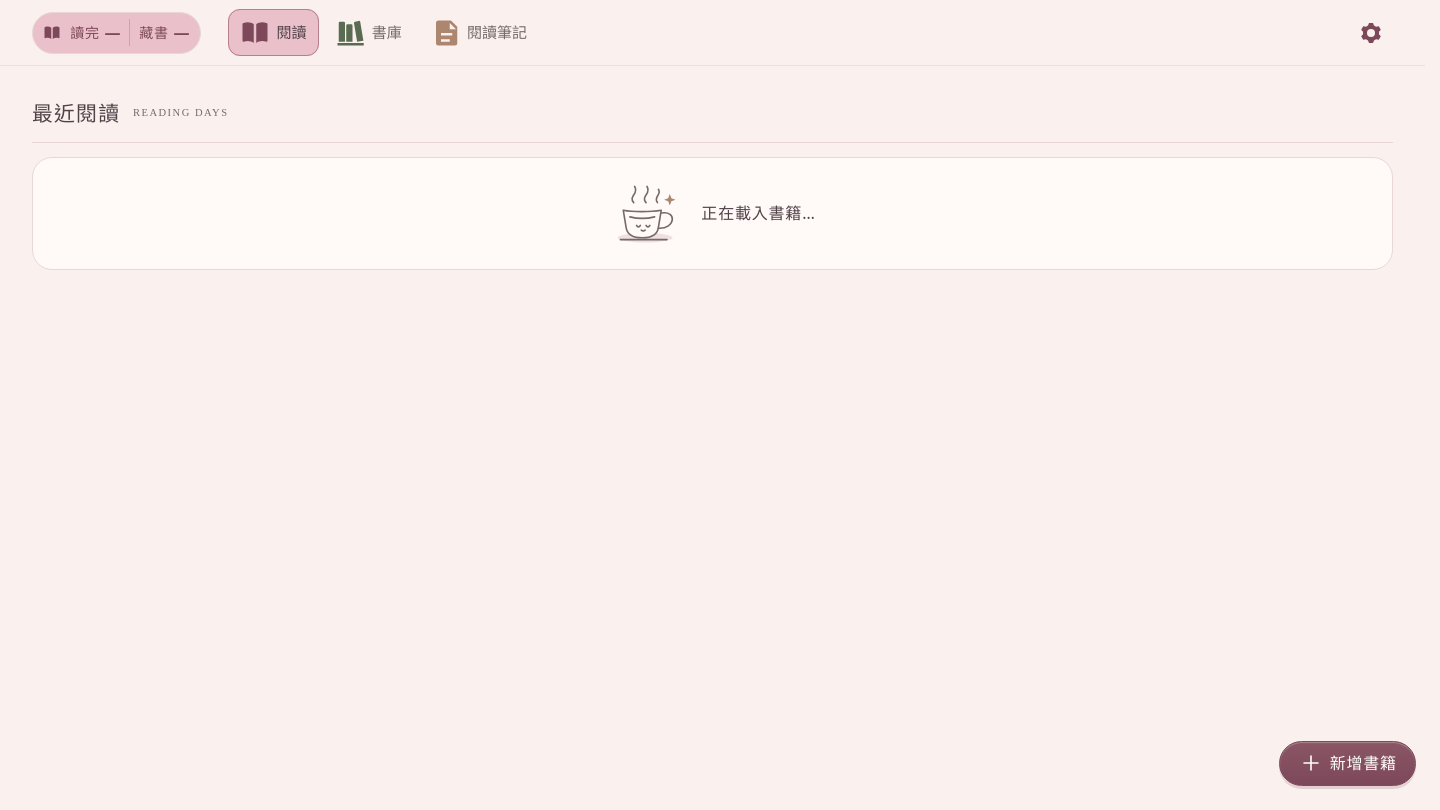
Scenario: single-book editing › blocks duplicate submits and editing while a save is pending
Step 1. Click the button "書庫" → (369, 33), box [323,9,414,56]
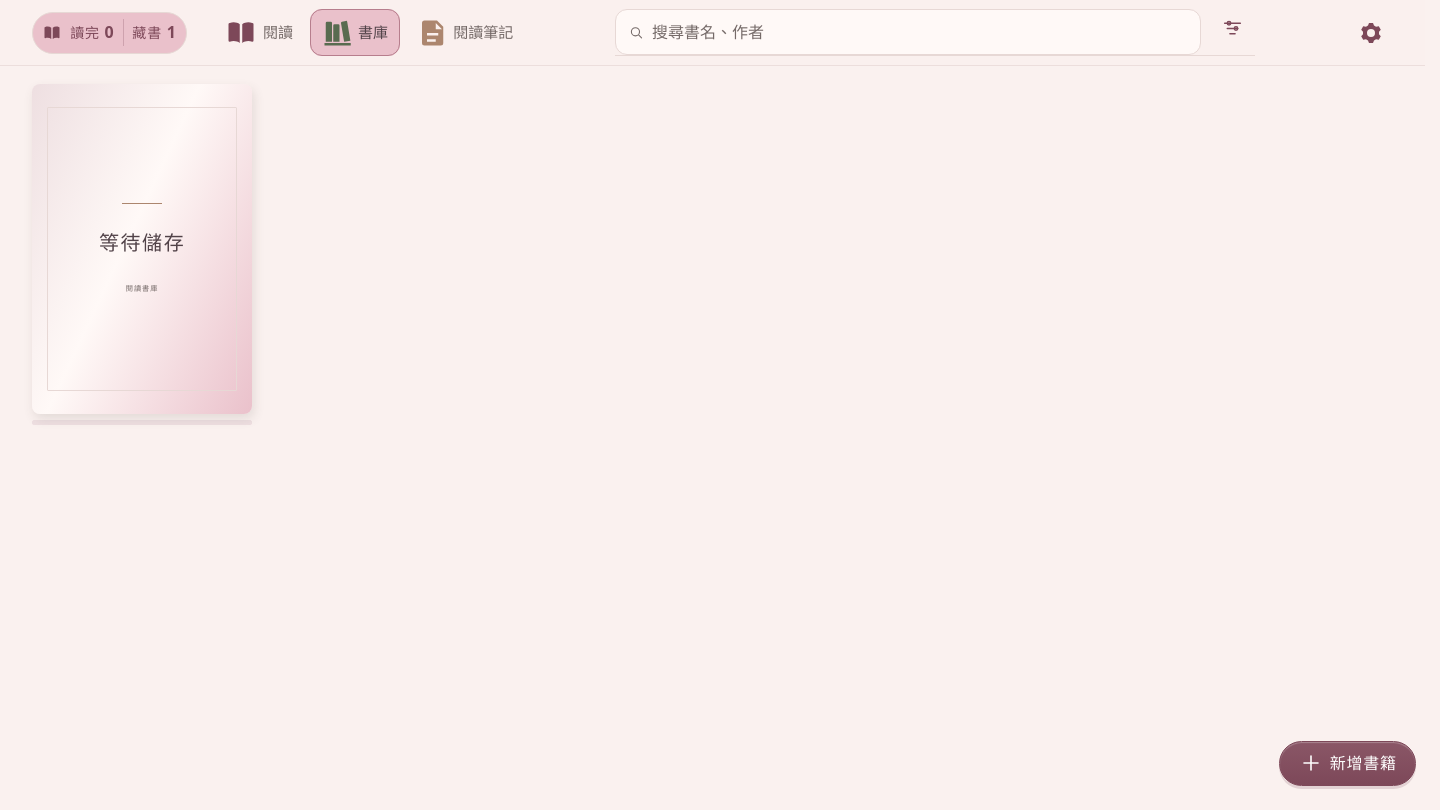
Step 2. Click the button with aria-label "開啟《" → (142, 249), box [32,84,252,414]
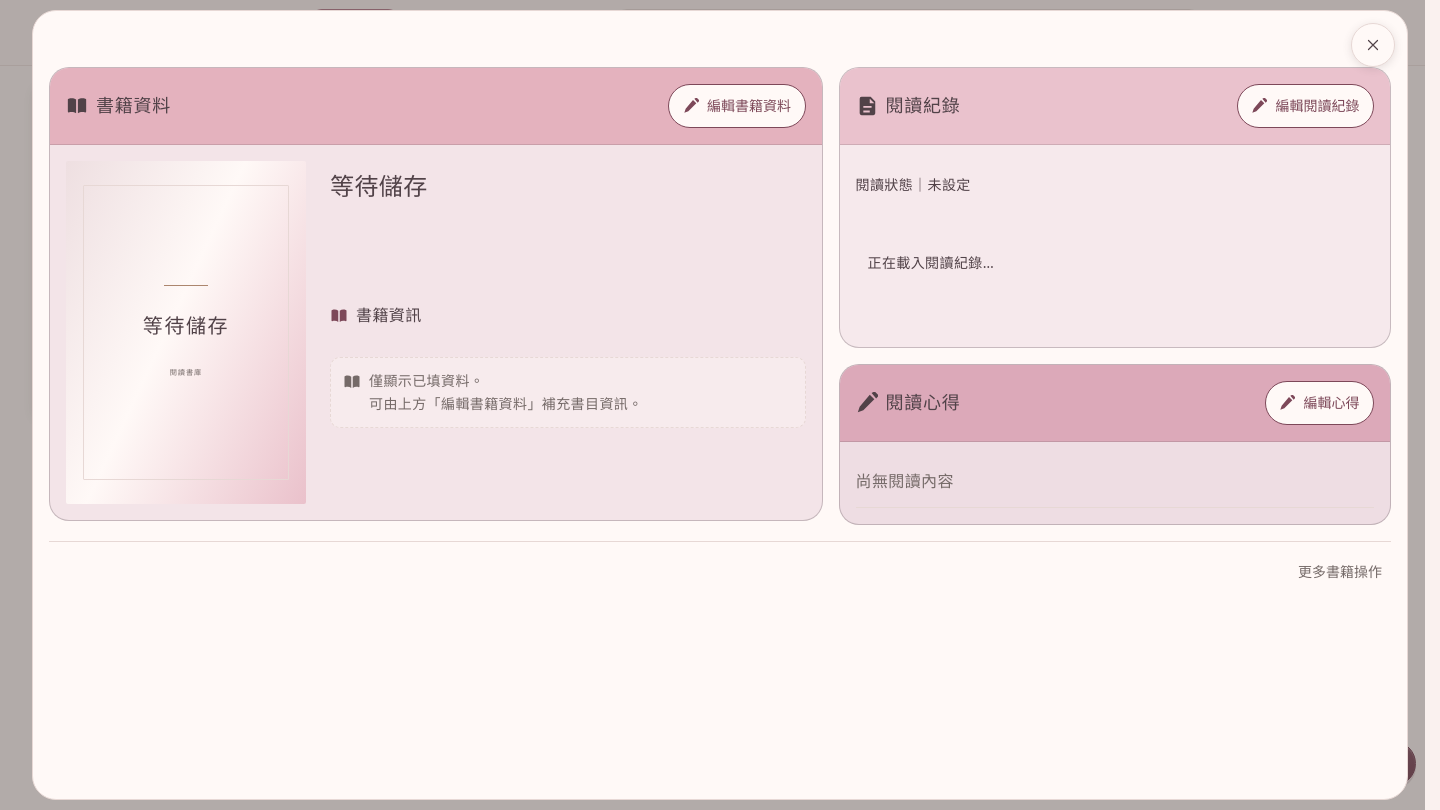
Step 3. Click the button "編輯書籍資料" → (737, 106), box [668,84,806,128]
(page scrolled)
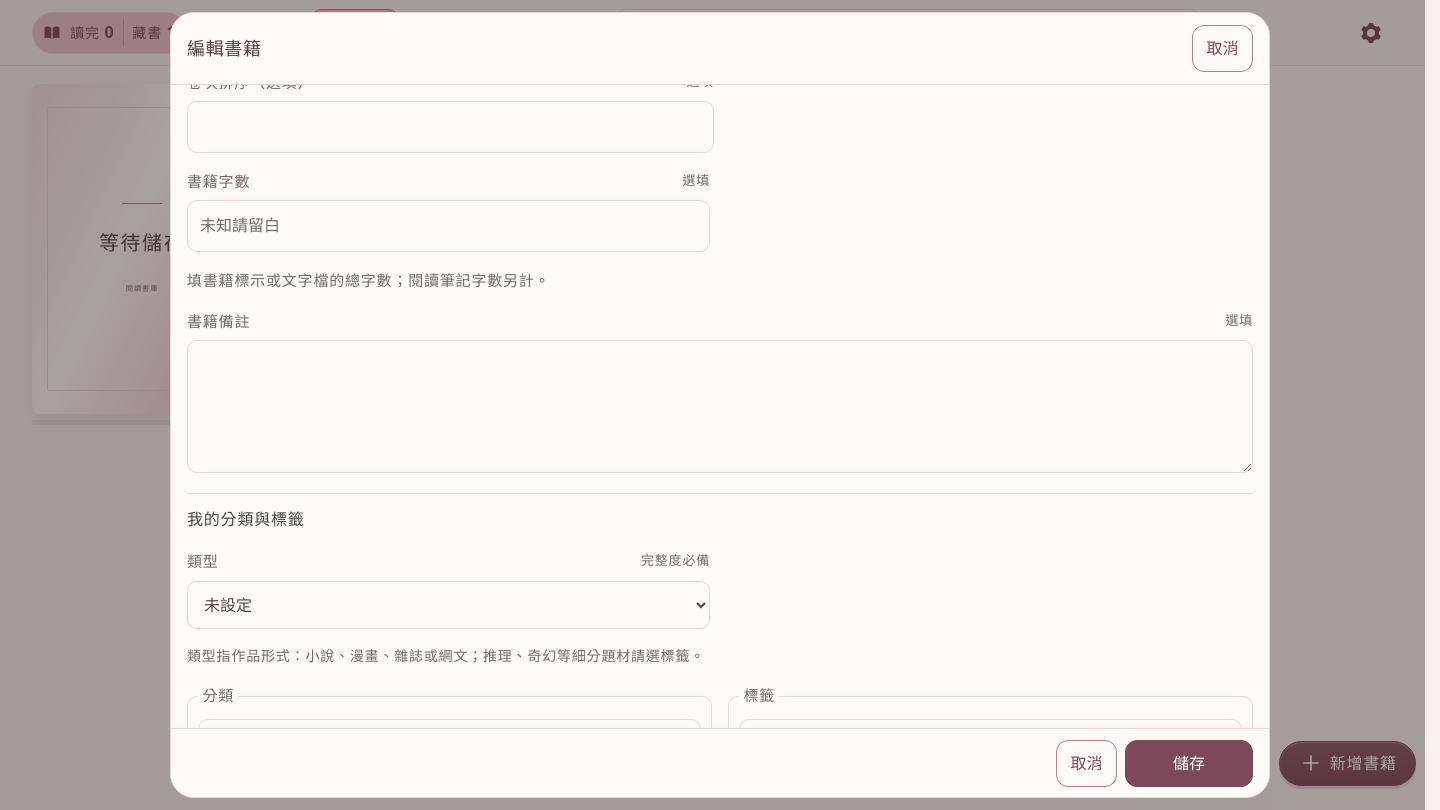
Step 4. Type "只儲存一次" into the text box labelled "書籍備註" → (720, 407), box [187,340,1253,473]
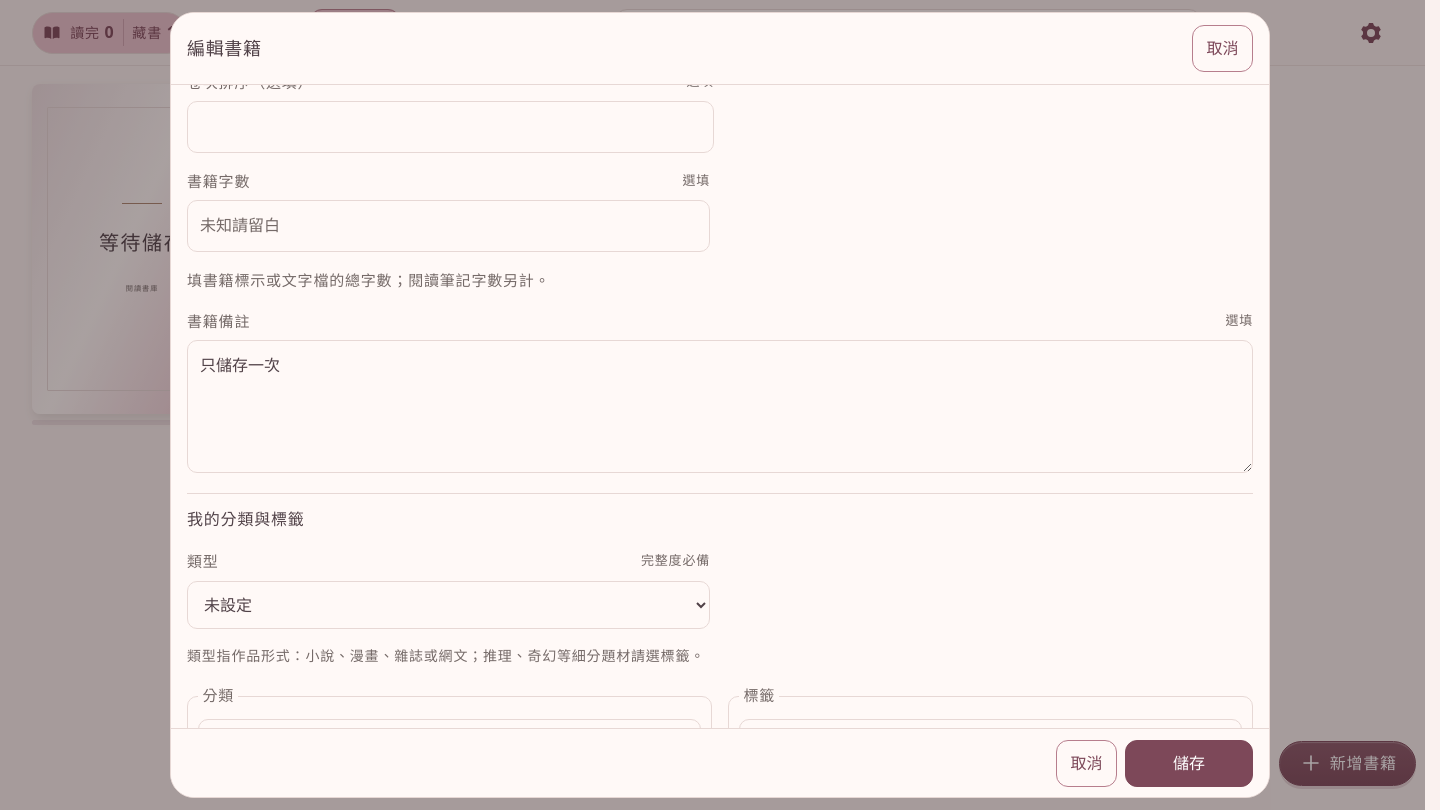
Step 5. Submit the form with class "book-form"
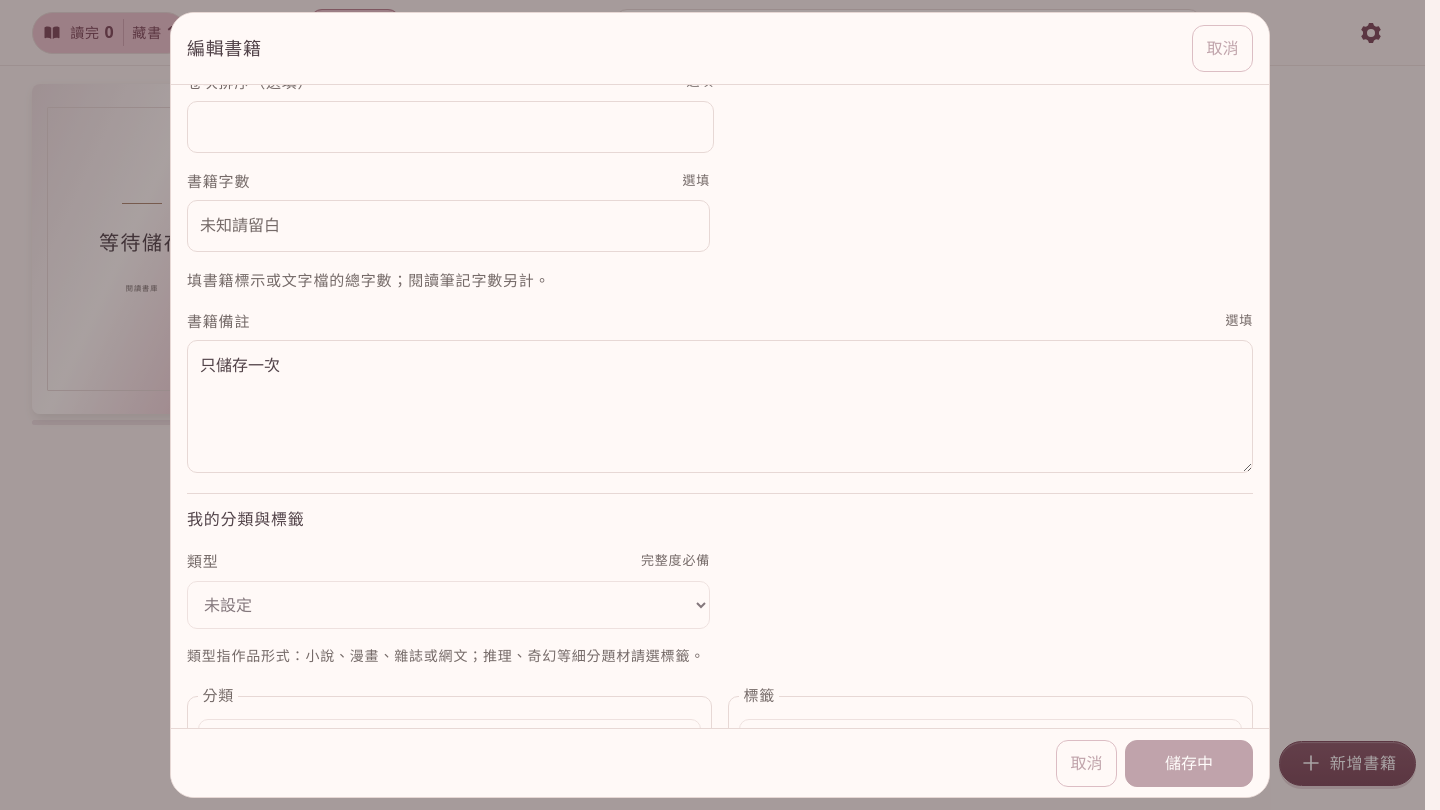
Step 6. Submit the form with class "book-form"
expect the element named "書籍資料欄位" is disabled: met
expect the 2nd button "取消" is disabled: met, box [1056,740,1117,787]
Step 7. Press Escape in the form with class "book-form"
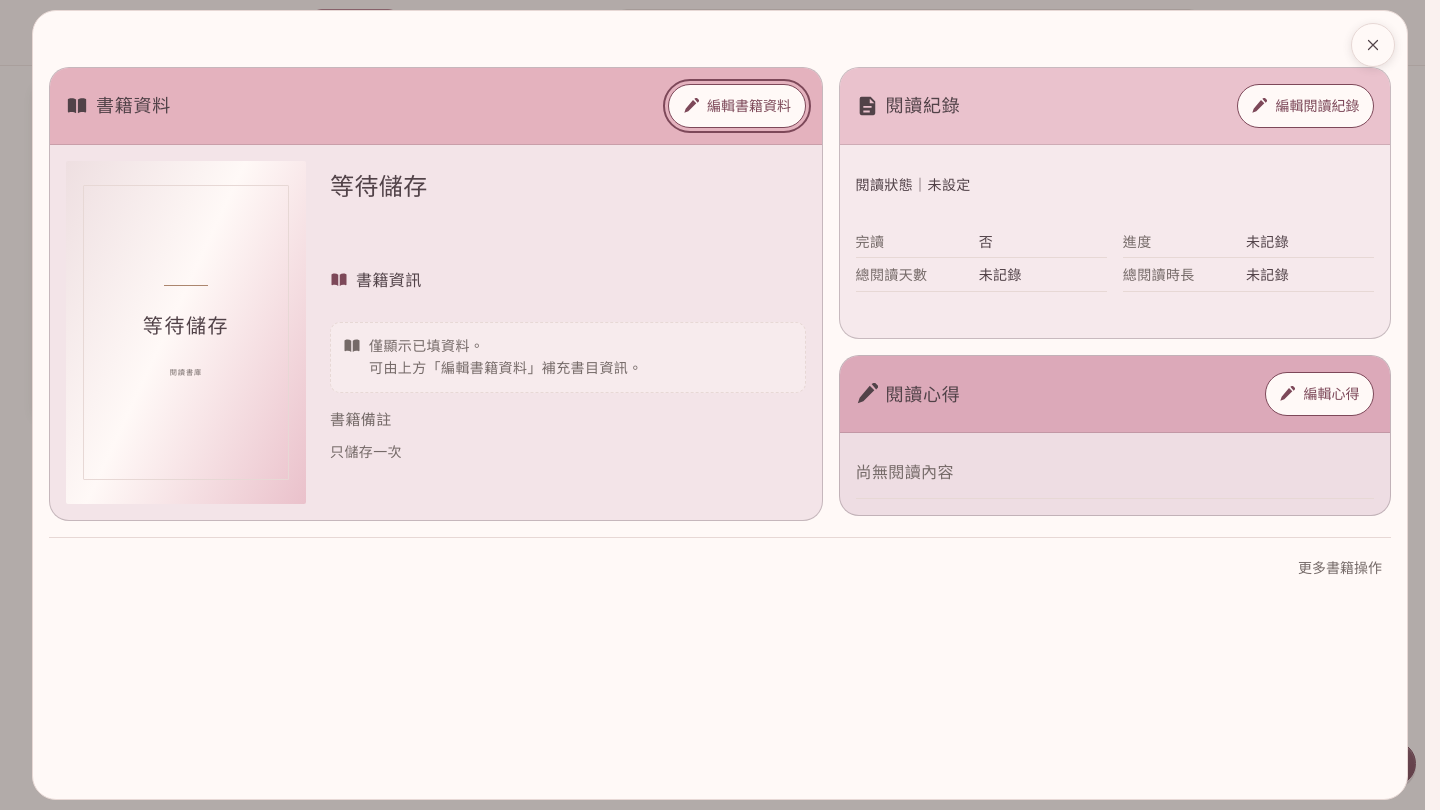
expect the form with class "book-form" is gone: met
